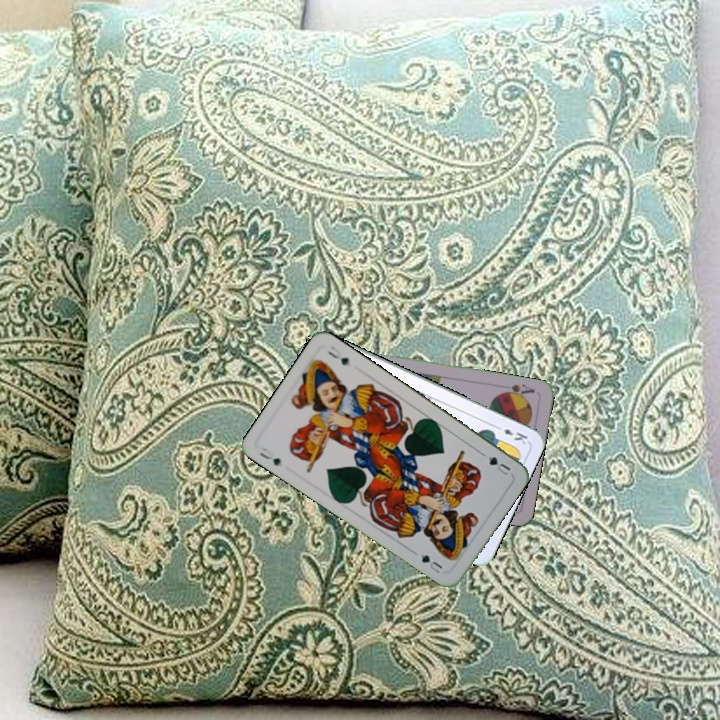EK: (491, 421, 530, 447)
GU: (478, 449, 513, 478), (255, 443, 283, 469)
SA: (497, 380, 537, 400)
